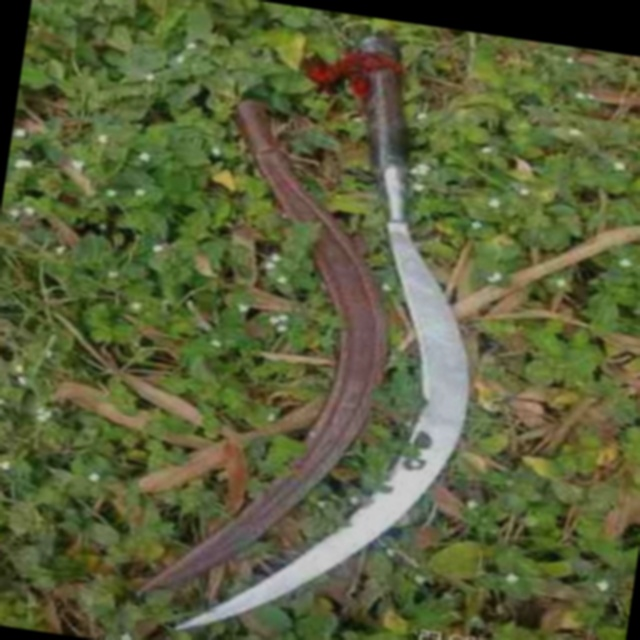Sharp-Object: (172, 2, 523, 640)
